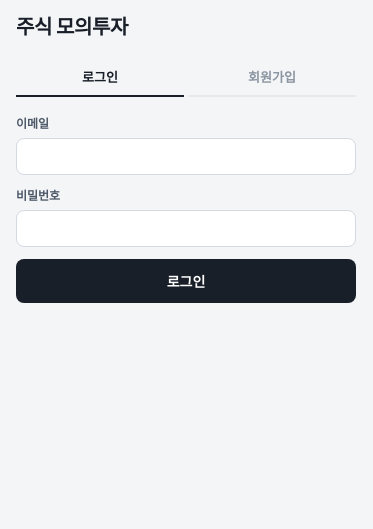
Scenario: 로그인 / 회원가입 화면(SPEC §8.1 #1) › 가입 탭에서 캐릭터 2개와 각 1억원 지급을 안내한다
What coordinates should you click on to do the following:
click the tab "회원가입"
I would click on:
 (272, 77)
Its box is [188, 58, 356, 97].
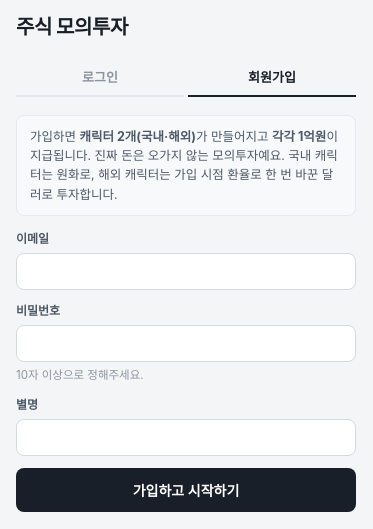
Check: the text "가입하면" shows "캐릭터 2개(국내·해외)", box [80, 129, 196, 144]
Check: the text "가입하면" shows "각각 1억원", box [272, 129, 326, 144]
